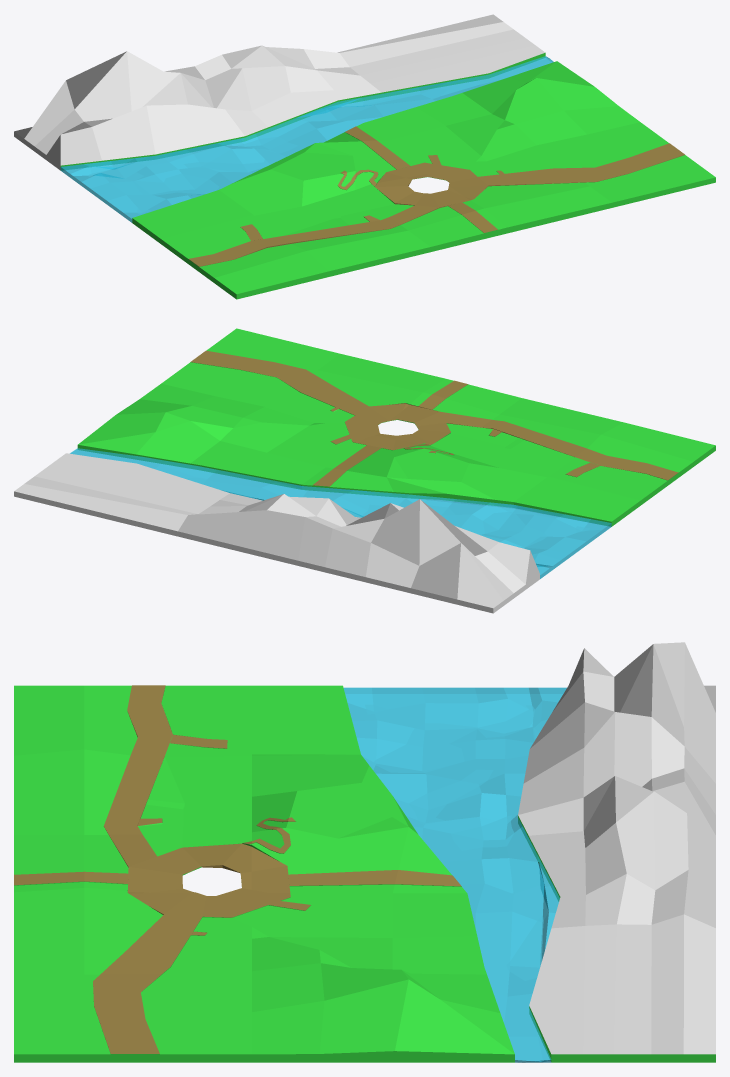
Rendered from DowntownLandscape.fbx.
The picture shows the model from 3 angles, top to bottom: view 1: azimuth 30°, elevation 25°; view 2: azimuth 150°, elevation 25°; view 3: azimuth 270°, elevation 25°; orthographic projection. The views are drawn at different scales.
Visible parts, largest first — view 1: Plane.064; view 2: Plane.064; view 3: Plane.064.
Boxes of the visible parts, bbox=[...] form: Plane.064: bbox=[14, 14, 715, 299]; Plane.064: bbox=[14, 328, 715, 613]; Plane.064: bbox=[14, 642, 715, 1062].
Bounding box in the file's own units: 19260 × 3191 × 15443.
